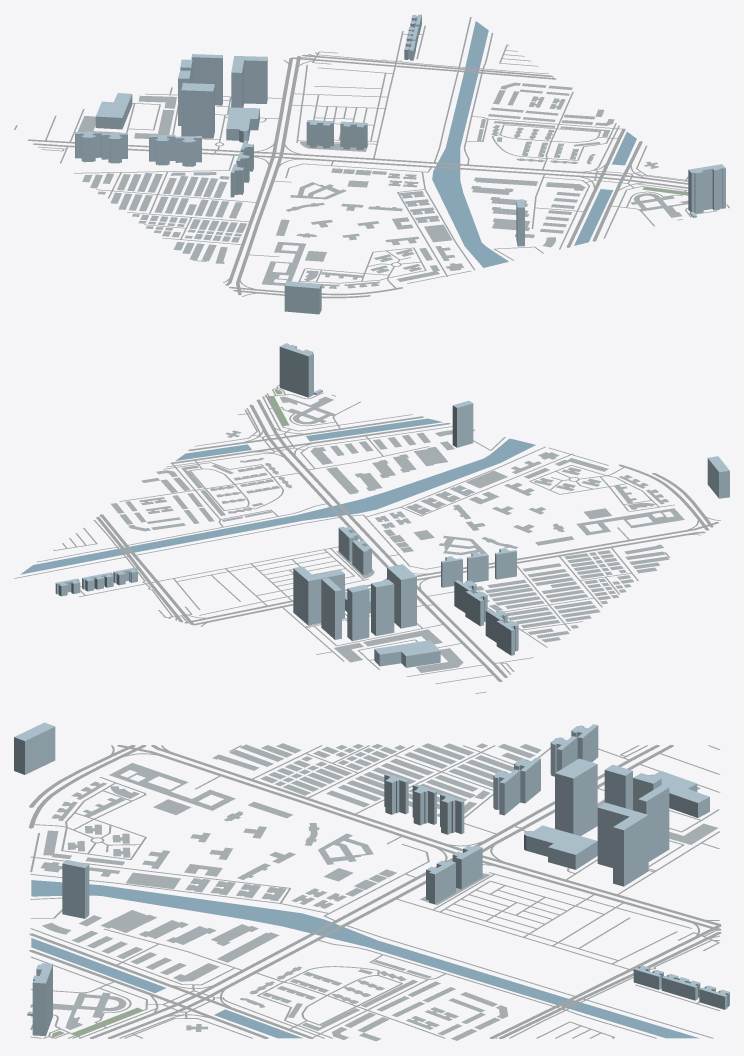
The model's file is -17_3-known-coarse.glb.
3 renders of one model, top to bottom at view 1: azimuth 30°, elevation 25°; view 2: azimuth 150°, elevation 25°; view 3: azimuth 270°, elevation 25°, orthographic. The views are drawn at different scales.
Bounding box in the file's own units: 1021 × 99 × 1035.
